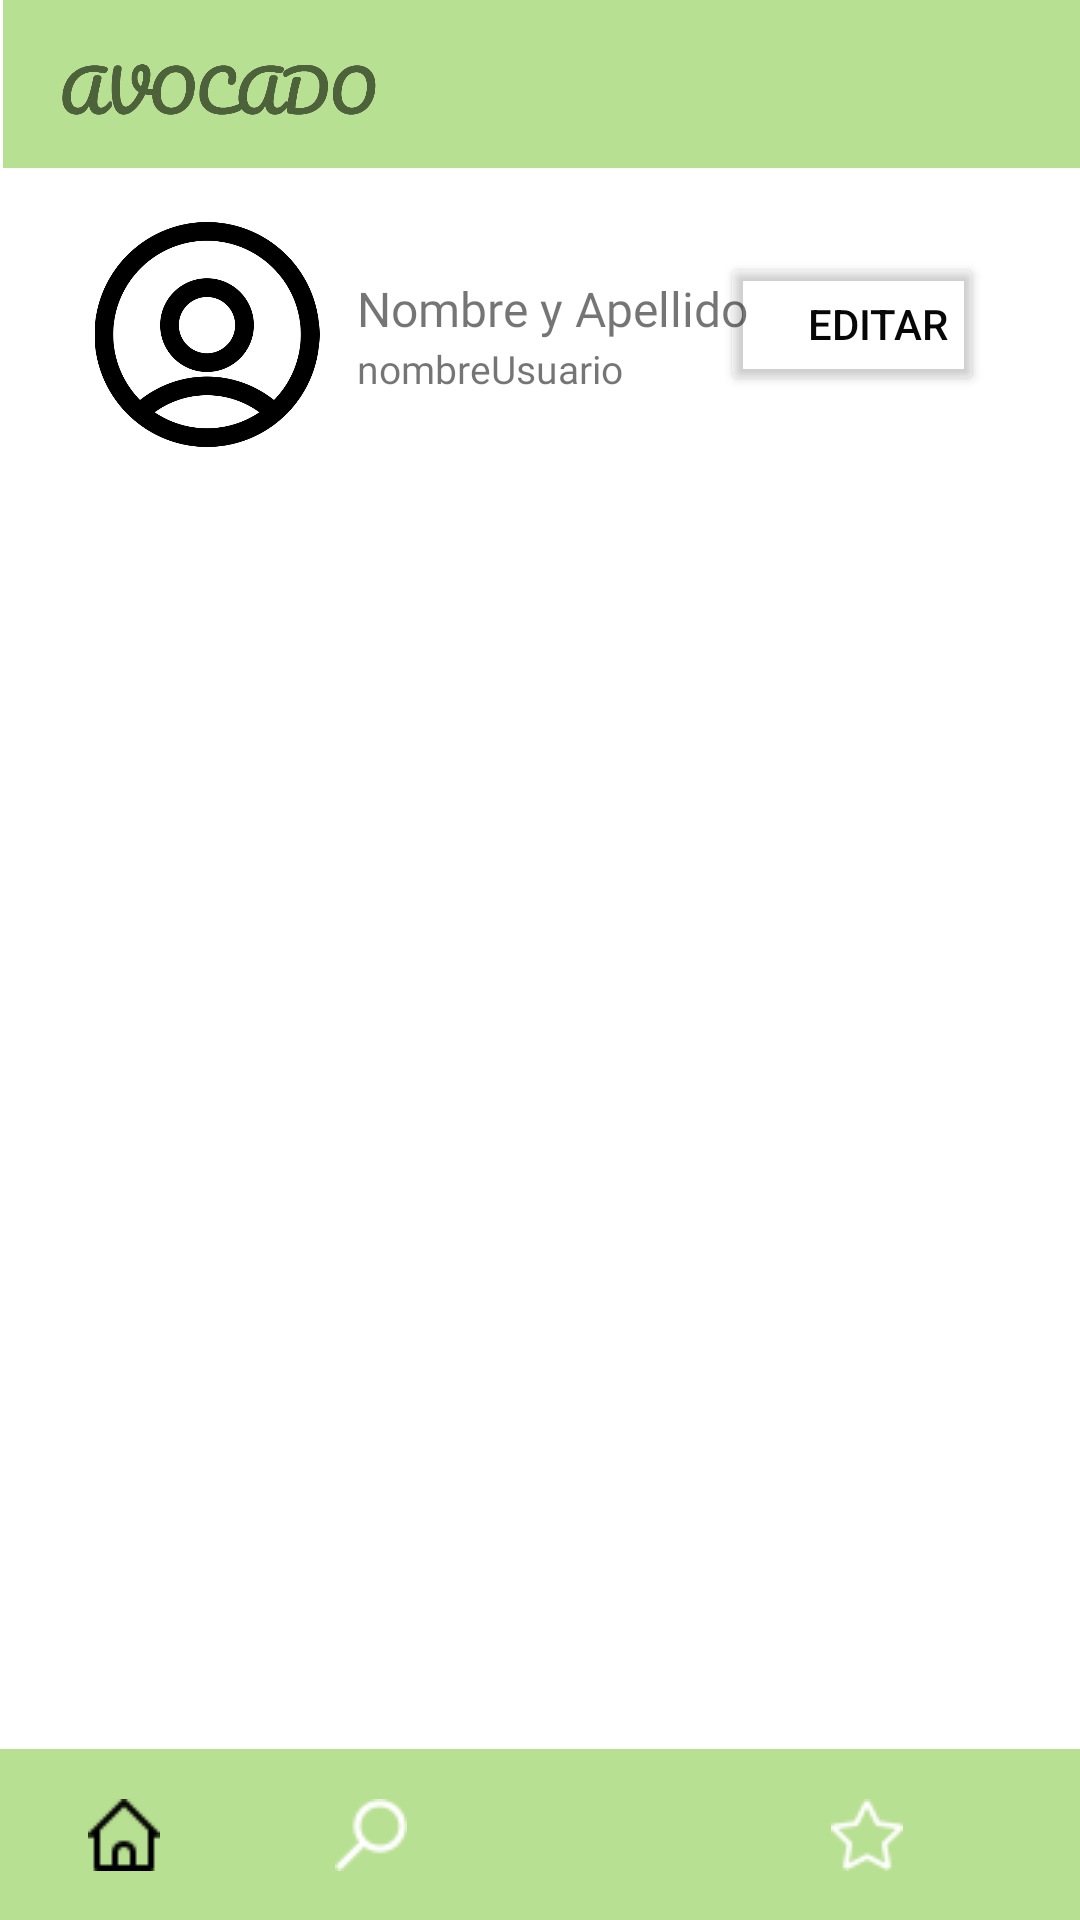

Named icons in this screenshot (1080 x 1920) and their bounding boxes, (x1, y1, x2, y2):
Buscar: (335, 1799, 407, 1871)
Favoritos: (831, 1799, 903, 1871)
Home: (88, 1799, 160, 1871)
